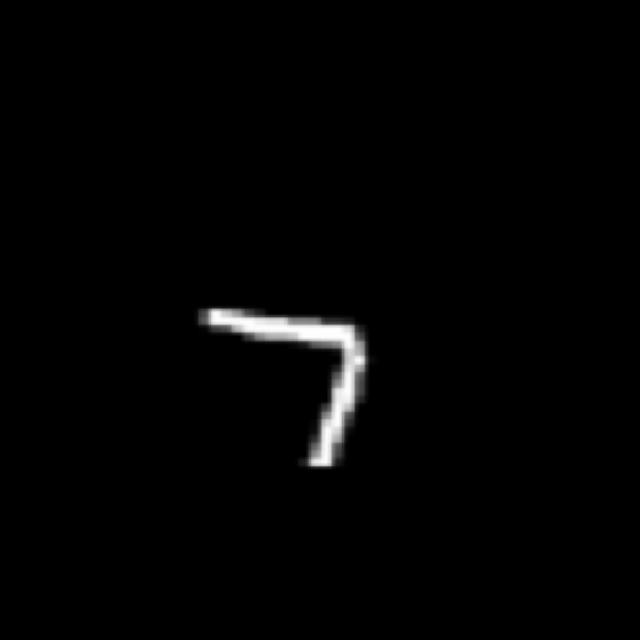seven -7-: (196, 292, 387, 480)
